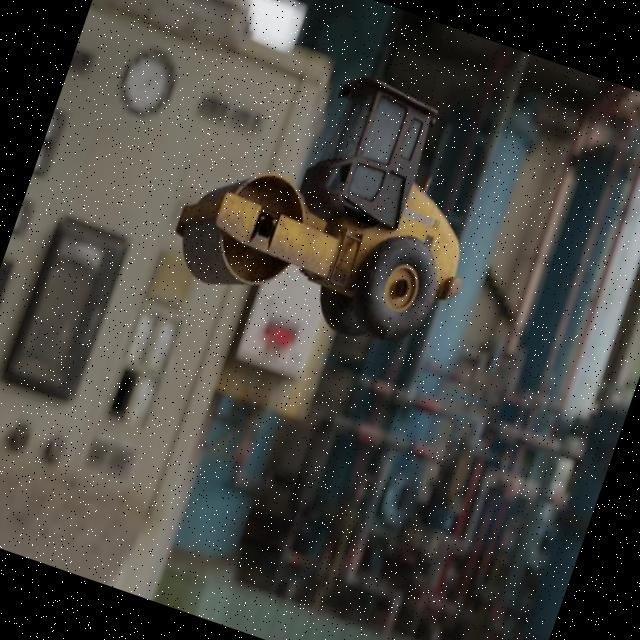Roller: (160, 32, 516, 366)
